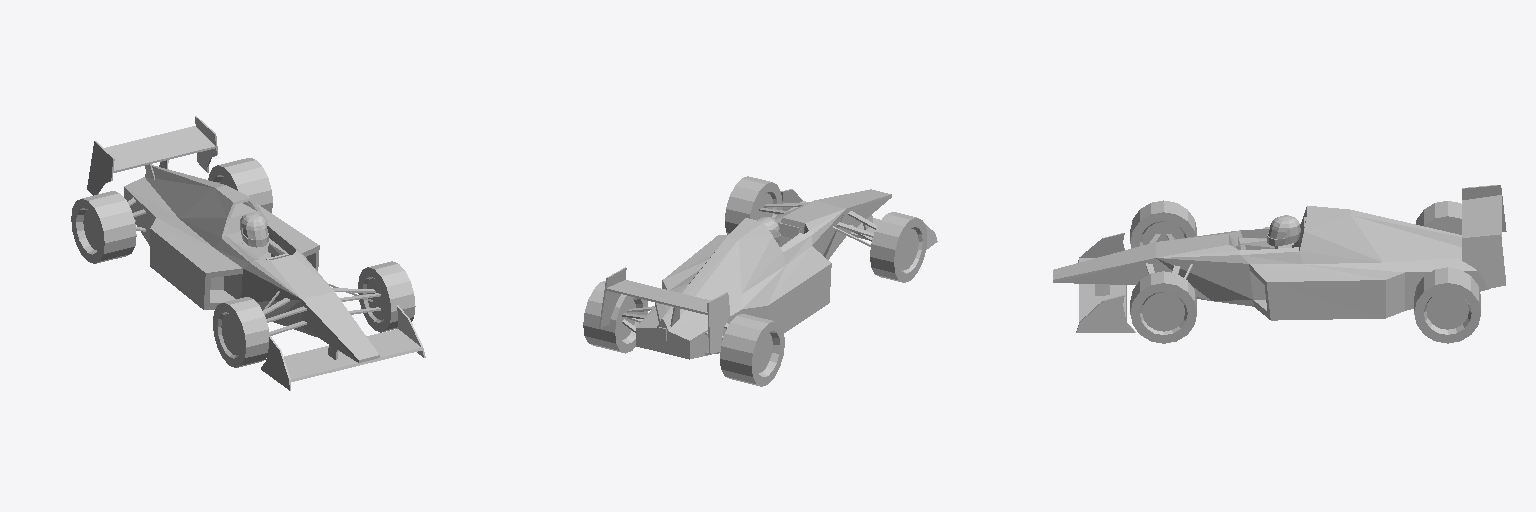
File: car_formula.obj
The picture shows the model from 3 angles: view 1: azimuth 30°, elevation 25°; view 2: azimuth 150°, elevation 25°; view 3: azimuth 270°, elevation 25°; orthographic projection.
Visible parts, largest first — view 1: car; view 2: car; view 3: car.
Boxes of the visible parts, x1=… form: car: x1=71, y1=116, x2=425, y2=390; car: x1=583, y1=176, x2=937, y2=386; car: x1=1053, y1=185, x2=1506, y2=343.
Size of the model in its own units: 0.9431 by 0.4961 by 2.19.